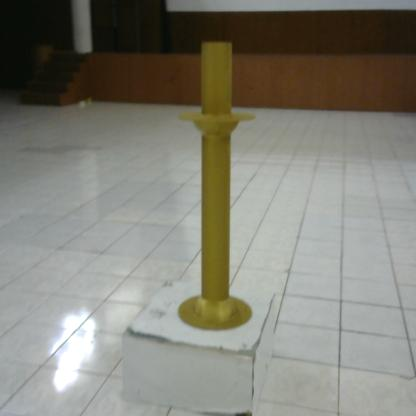pole: (170, 34, 261, 336)
